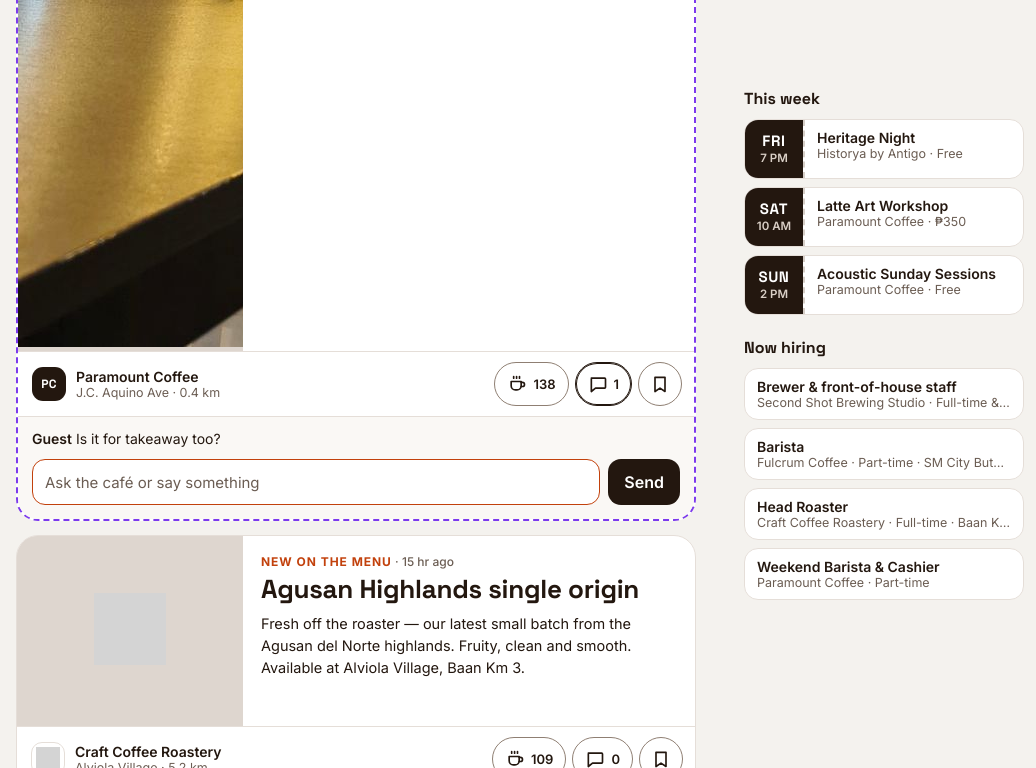
Test case: Today board: cards › opens the comment thread, focuses the field and adds a comment
Earlier steps of the test are not shown.
(page scrolled)
Check: the button named "Comments, 1" is expanded, box [574,362,632,406]
Check: the list item "Is it for takeaway too?" is shown, box [76,430,221,447]
In the field named "Comment on Sustainability Week": (316, 482) [32,460,600,506], type "<b>See you</b>"
Then press Enter
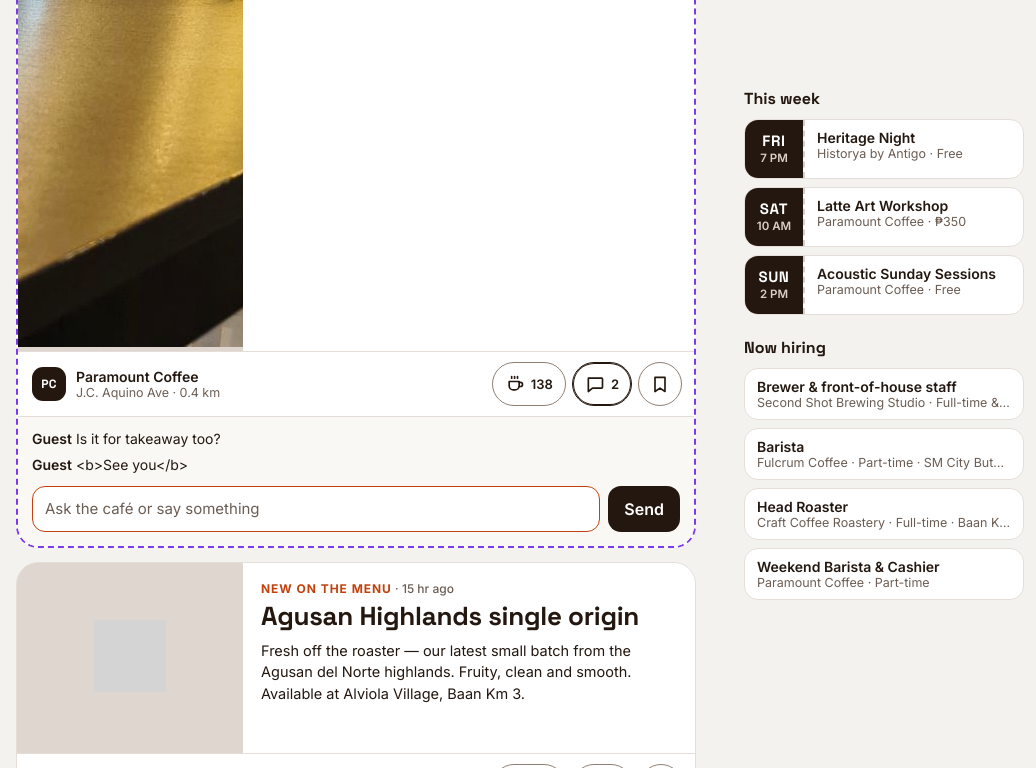
Check: the button named "Comments, 2" is shown, box [572,362,632,406]
Check: the field named "Comment on Sustainability Week" is empty, box [32,486,600,532]
Check: the list item "<b>See you</b>" is shown, box [76,456,188,474]
